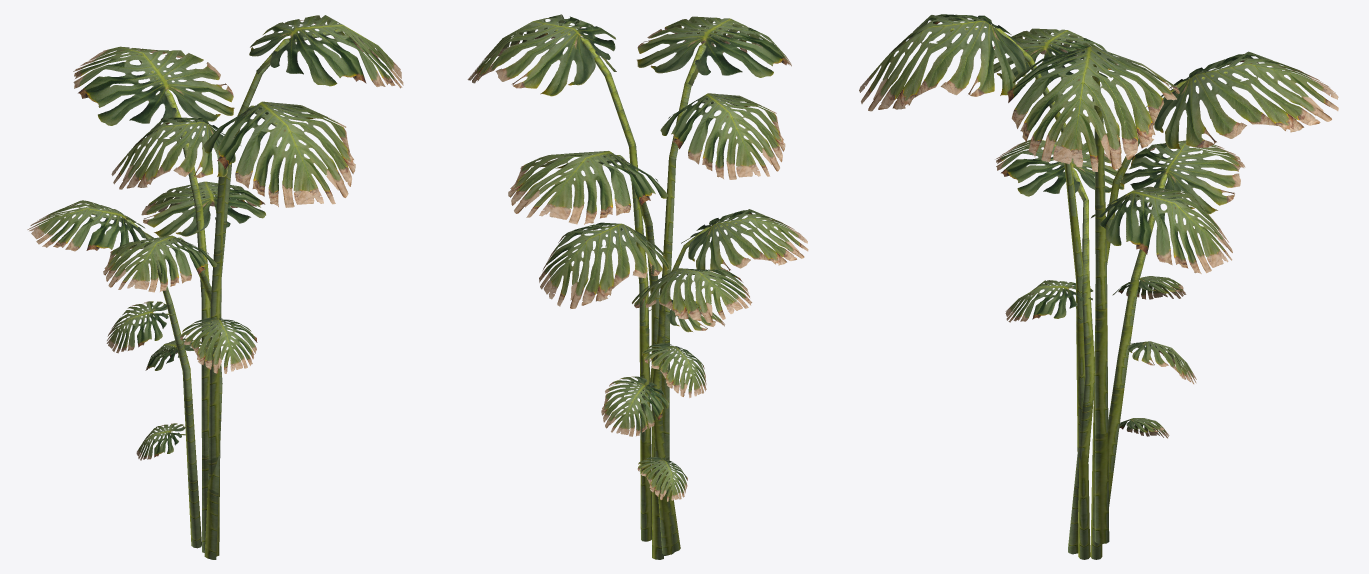
Rendered from plant2.fbx.
3 views of the same model, side by side, from view 1: azimuth 30°, elevation 25°; view 2: azimuth 150°, elevation 25°; view 3: azimuth 270°, elevation 25° (orthographic). The views are drawn at different scales.
Parts seen in each view (by area): view 1: U3DMesh; view 2: U3DMesh; view 3: U3DMesh.
Part boxes in pixels (x1=…): U3DMesh: x1=27, y1=15, x2=403, y2=559; U3DMesh: x1=467, y1=14, x2=808, y2=559; U3DMesh: x1=859, y1=14, x2=1338, y2=559.
Bounding box in the file's own units: 22.79 × 32.22 × 26.57.
2 materials, 2 textured.
